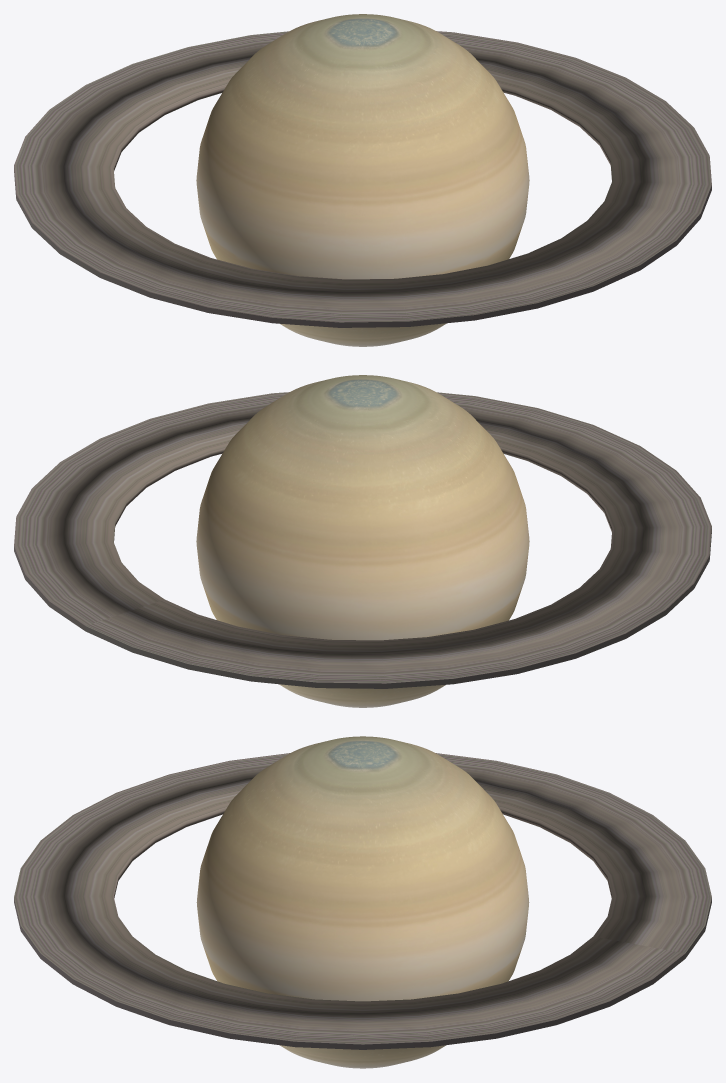
The model's file is Saturn.fbx.
The picture shows the model from 3 angles, top to bottom: view 1: azimuth 30°, elevation 25°; view 2: azimuth 150°, elevation 25°; view 3: azimuth 270°, elevation 25°; orthographic projection.
Parts seen in each view (by area): view 1: Circle, Sphere; view 2: Circle, Sphere; view 3: Circle, Sphere.
Boxes of the visible parts, box(x1,y1,x2,y2) form: Circle: box(14, 31, 711, 327); Sphere: box(196, 14, 529, 346); Circle: box(14, 392, 711, 688); Sphere: box(196, 375, 529, 707); Circle: box(14, 753, 711, 1049); Sphere: box(196, 736, 529, 1068).
Bounding box in the file's own units: 420 × 200 × 420.
Materials: 2 (2 with a texture image).
